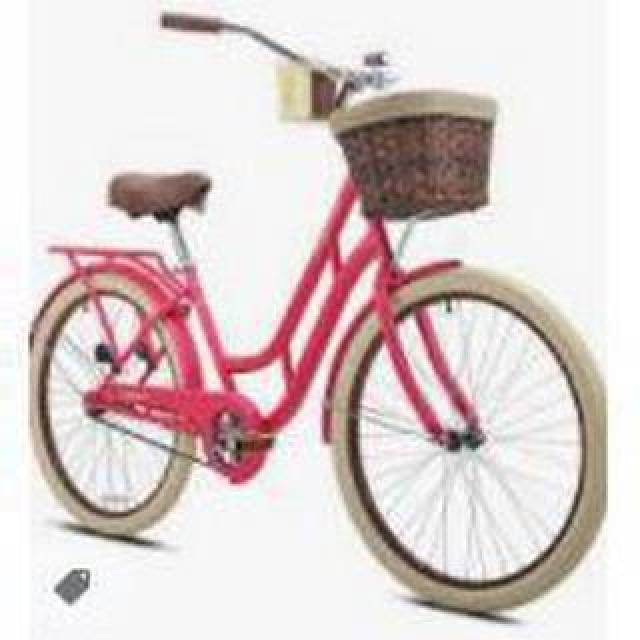Person: (26, 15, 606, 615)
